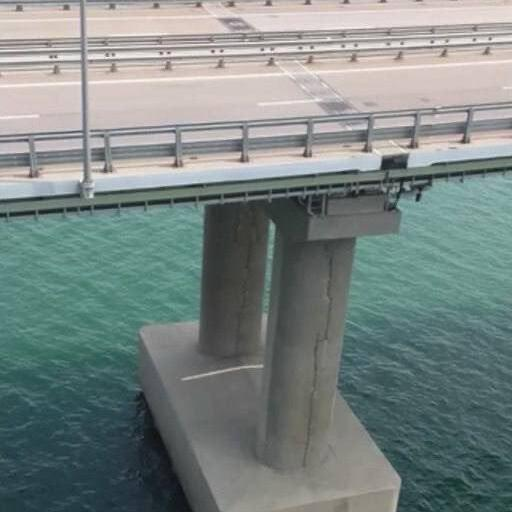Concrete: (1, 1, 512, 512)
Crack: (304, 239, 338, 473), (235, 200, 258, 357)
